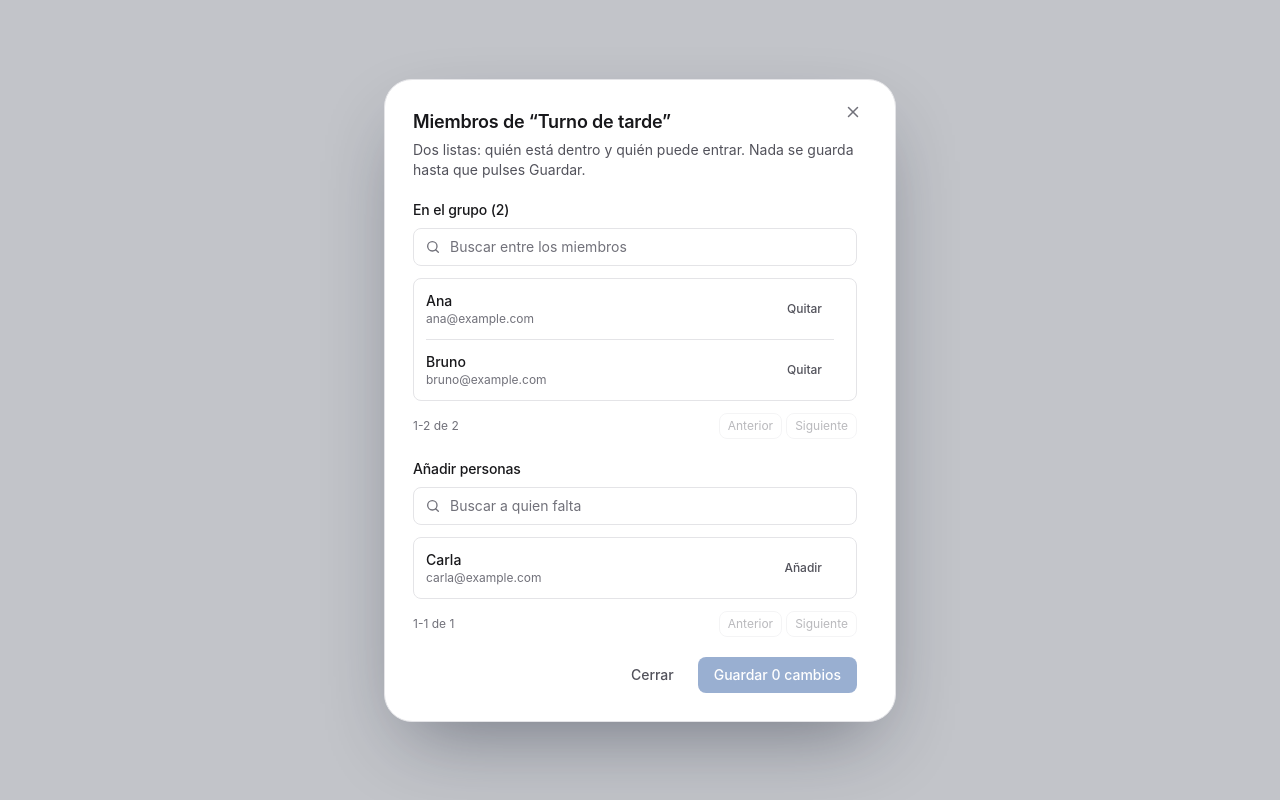
GroupMembersDialog › reports what the server actually did, not what was staged
Expected: the text "Carla" is shown, [426,550,461,568]
Click the button "Añadir". click: coordinates (803, 568)
box: [772,554,834,582]
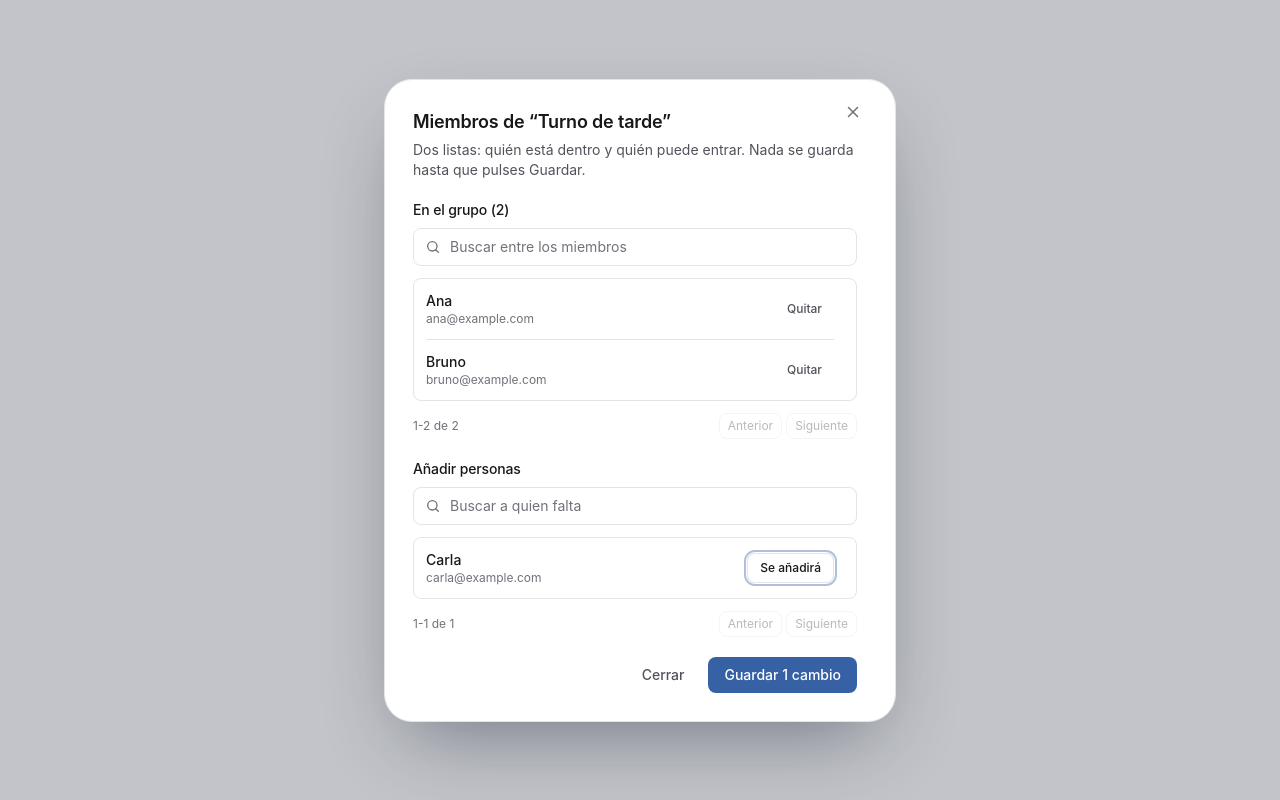
Click the button "Guardar 1 cambio". click: coordinates (783, 674)
box: [708,656,857,692]
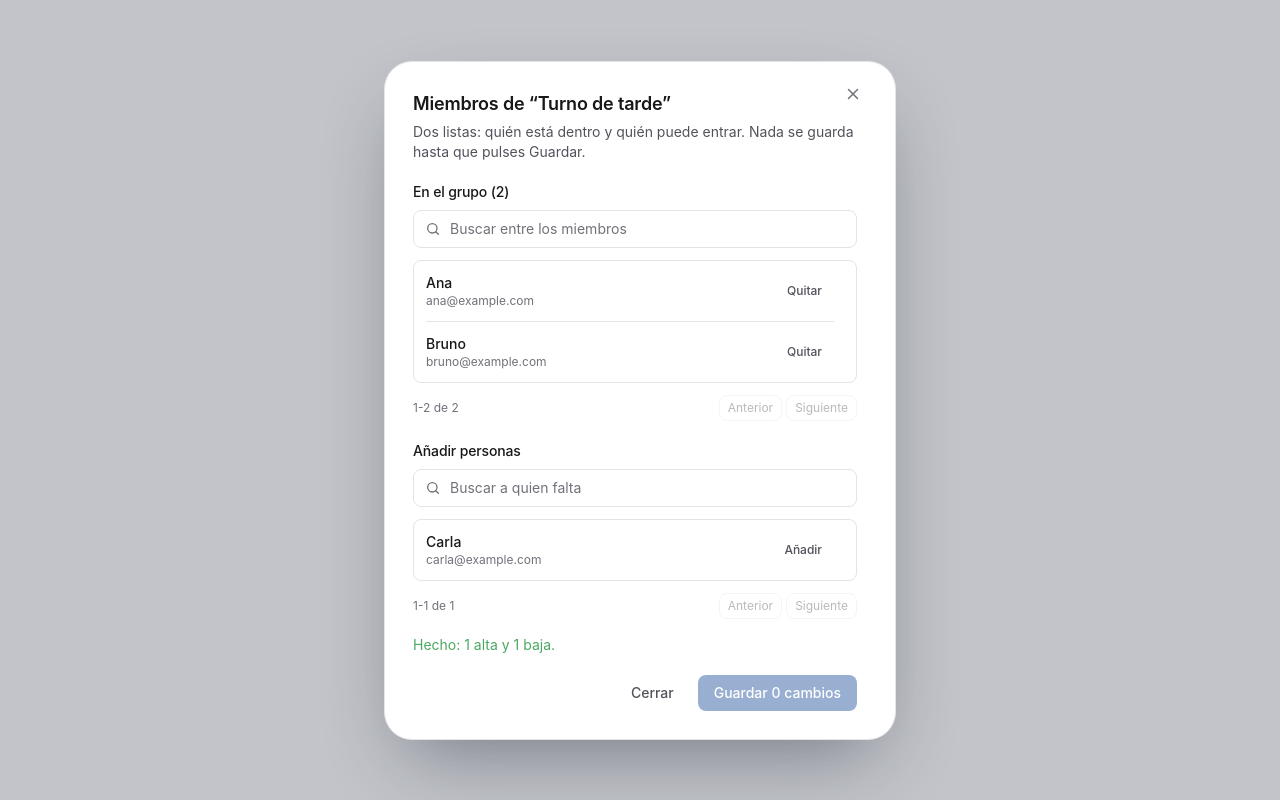
Expected: the text "Hecho: 1 alta y 1 baja." is shown, [413,636,555,652]
